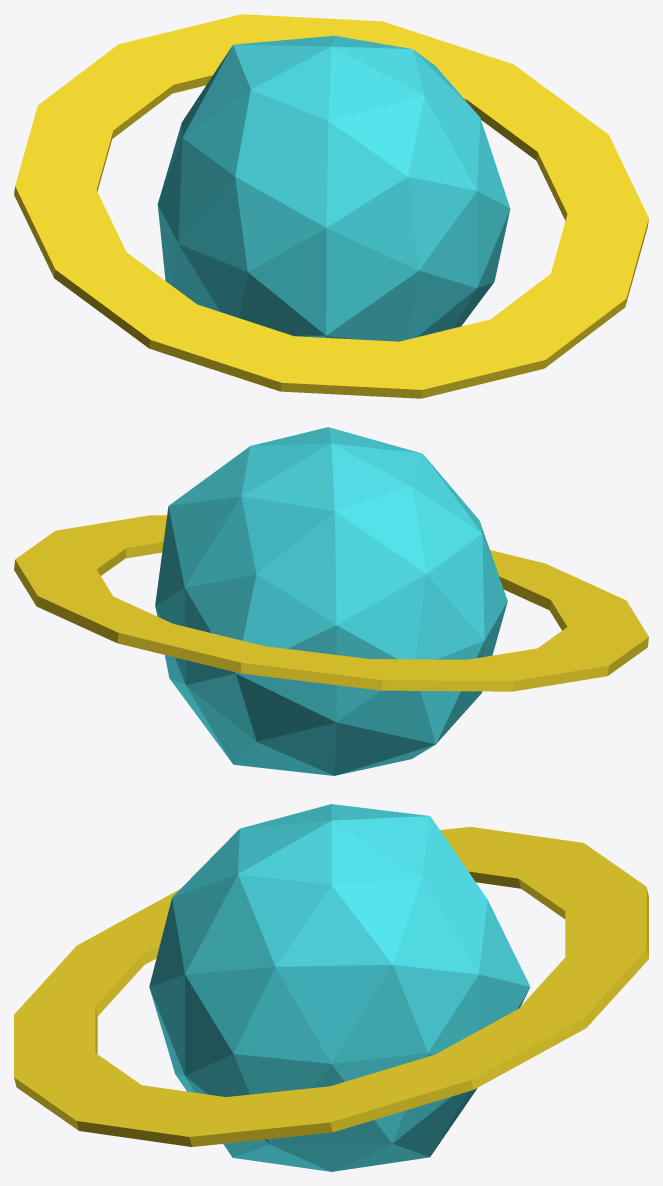
File: planet.glb
3 views of the same model, one above another, from view 1: azimuth 30°, elevation 25°; view 2: azimuth 150°, elevation 25°; view 3: azimuth 270°, elevation 25° (orthographic). The views are drawn at different scales.
Visible parts, largest first — view 1: planet; view 2: planet; view 3: planet.
Boxes of the visible parts, bbox=[...] form: planet: bbox=[14, 14, 648, 398]; planet: bbox=[14, 427, 648, 775]; planet: bbox=[14, 804, 648, 1171].
Bounding box in the file's own units: 2.1 × 1.2 × 2.01.
